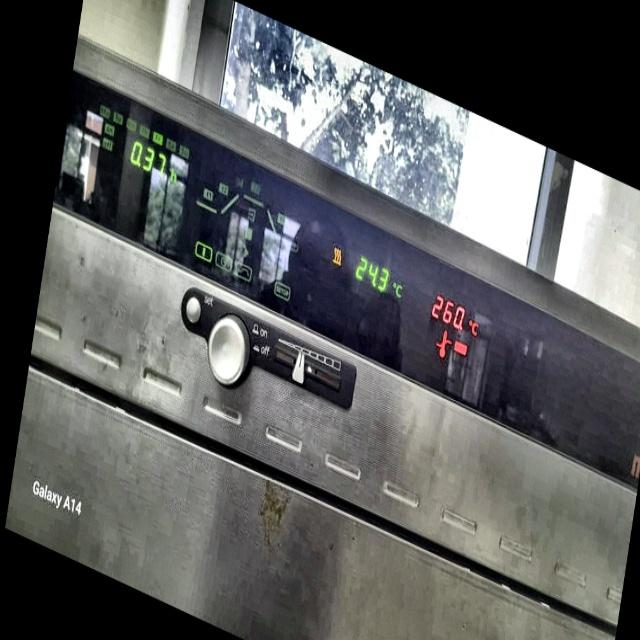Incubator: (6, 27, 640, 640)
